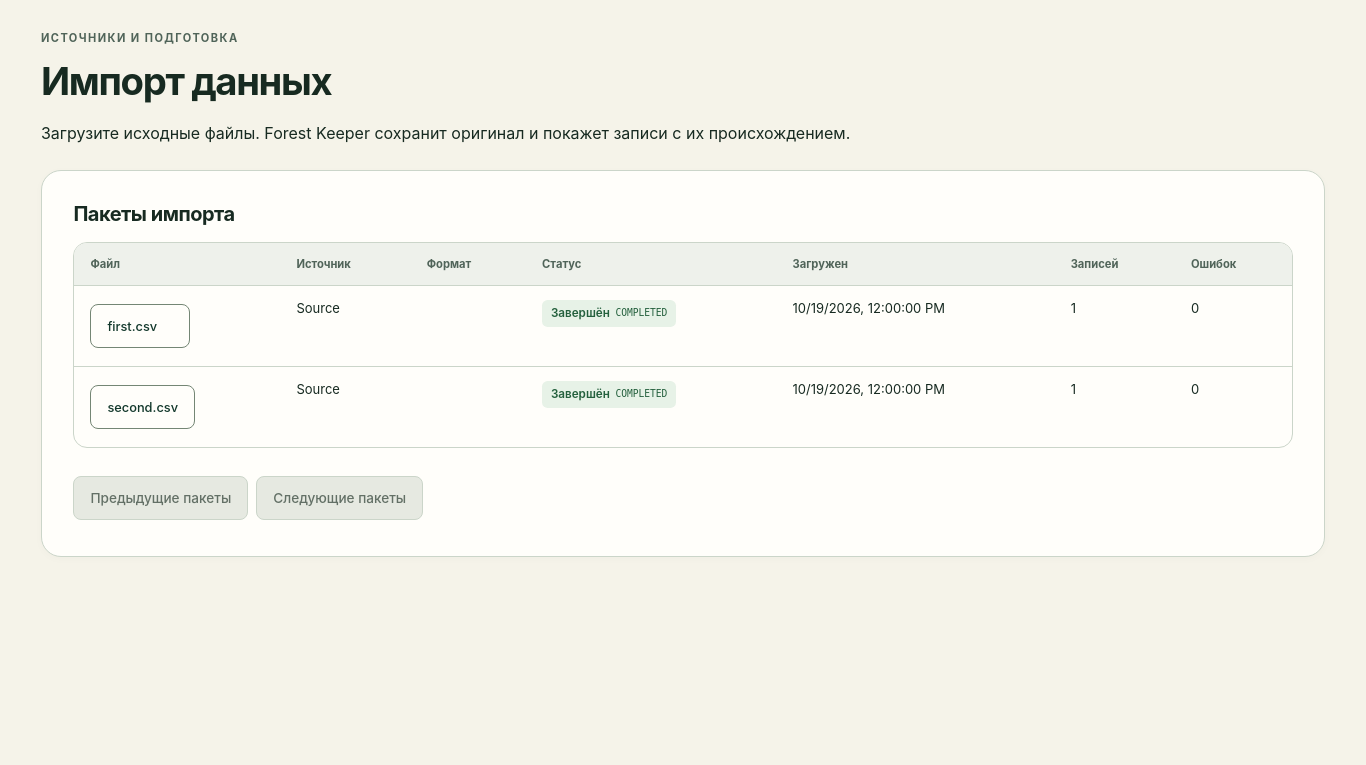
Test: shows metadata immediately and finishes a records request slower than polling
The image size is (1366, 765).
Click the button "first.csv" at (140,326), box [90,304,190,348]
Wait 2500 ms
(page scrolled)
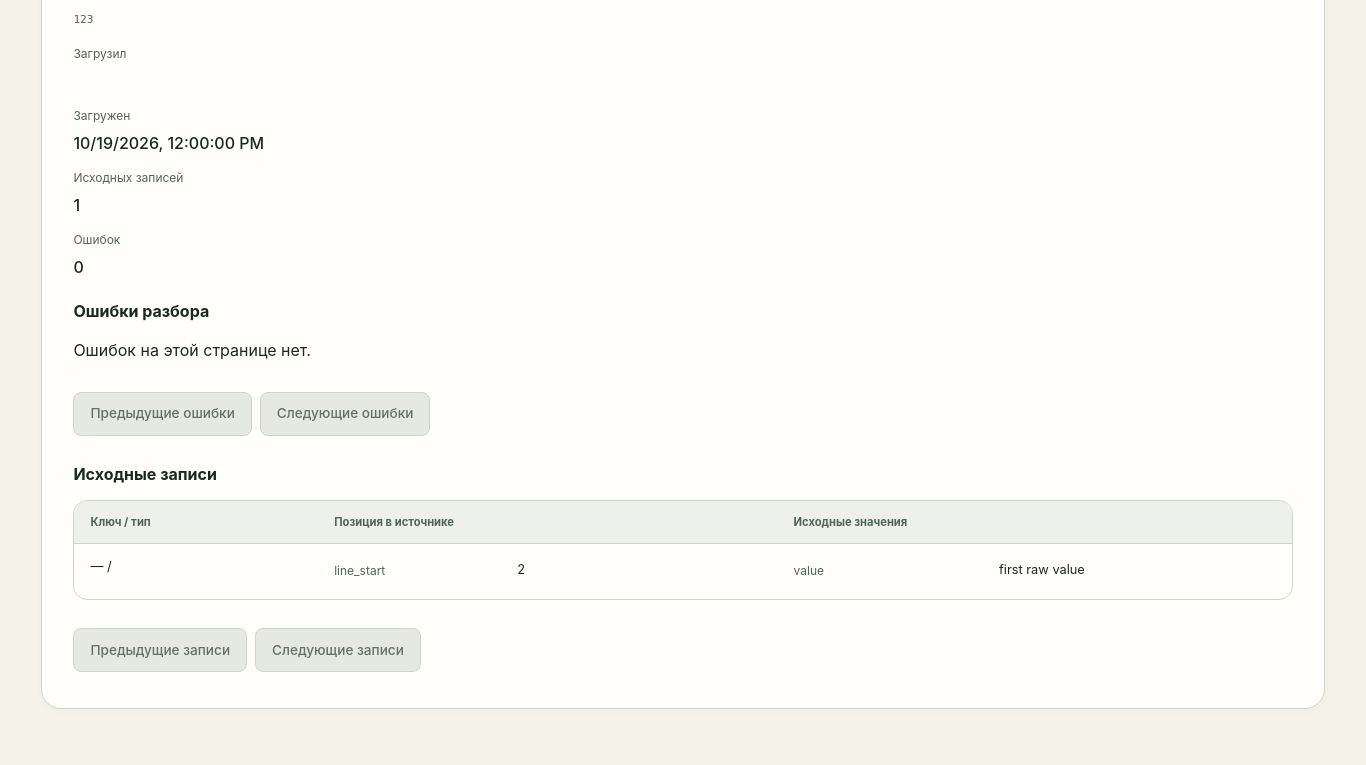
Result: the text "first raw value" is shown at [999,562,1085,577]
